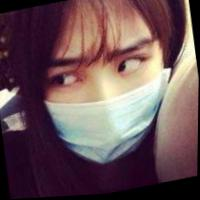WRONG: (41, 28, 183, 175)
